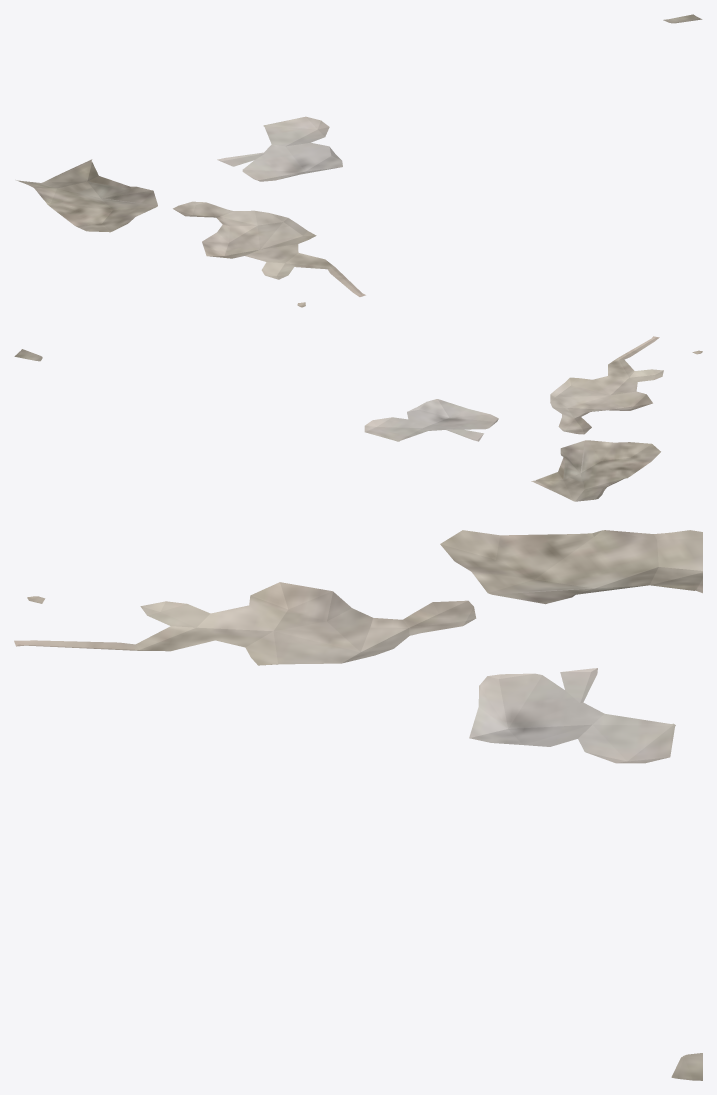
The picture shows the model from 3 angles, top to bottom: view 1: azimuth 30°, elevation 25°; view 2: azimuth 150°, elevation 25°; view 3: azimuth 270°, elevation 25°; orthographic projection. The views are drawn at different scales.
Size of the model in its own units: 5.9 by 0.0945 by 3.14.
1 material, 1 textured.
